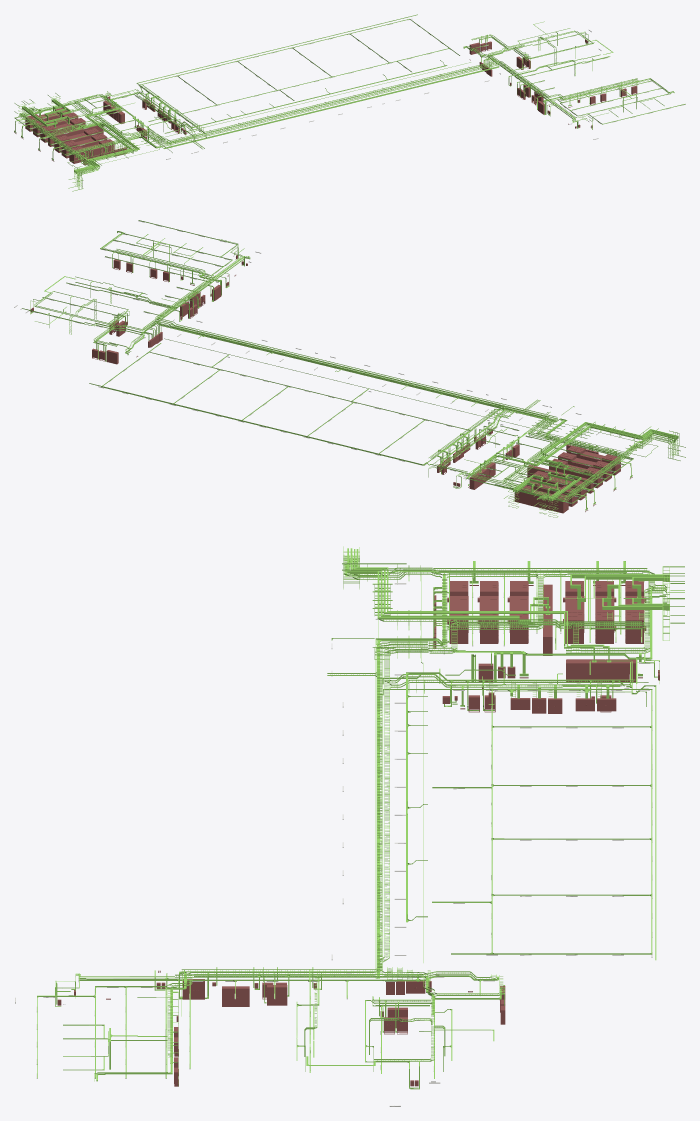
Rendered from detail-electrical-4-3f.glb.
The picture shows the model from 3 angles, top to bottom: view 1: azimuth 30°, elevation 25°; view 2: azimuth 150°, elevation 25°; view 3: azimuth 270°, elevation 25°; orthographic projection. The views are drawn at different scales.
Visible parts, largest first — view 1: containment, switchgear, lighting; view 2: containment, switchgear, lighting; view 3: containment, switchgear, lighting.
Boxes of the visible parts, box(x1,y1,x2,y2) form: containment: box(14, 14, 685, 191); switchgear: box(14, 39, 637, 164); lighting: box(16, 18, 685, 159); containment: box(22, 220, 685, 517); switchgear: box(30, 255, 632, 513); lighting: box(14, 220, 633, 503); containment: box(37, 546, 684, 1089); switchgear: box(57, 581, 659, 1086); lighting: box(15, 573, 652, 1106).
Size of the model in its own units: 135 by 5.05 by 72.63.
